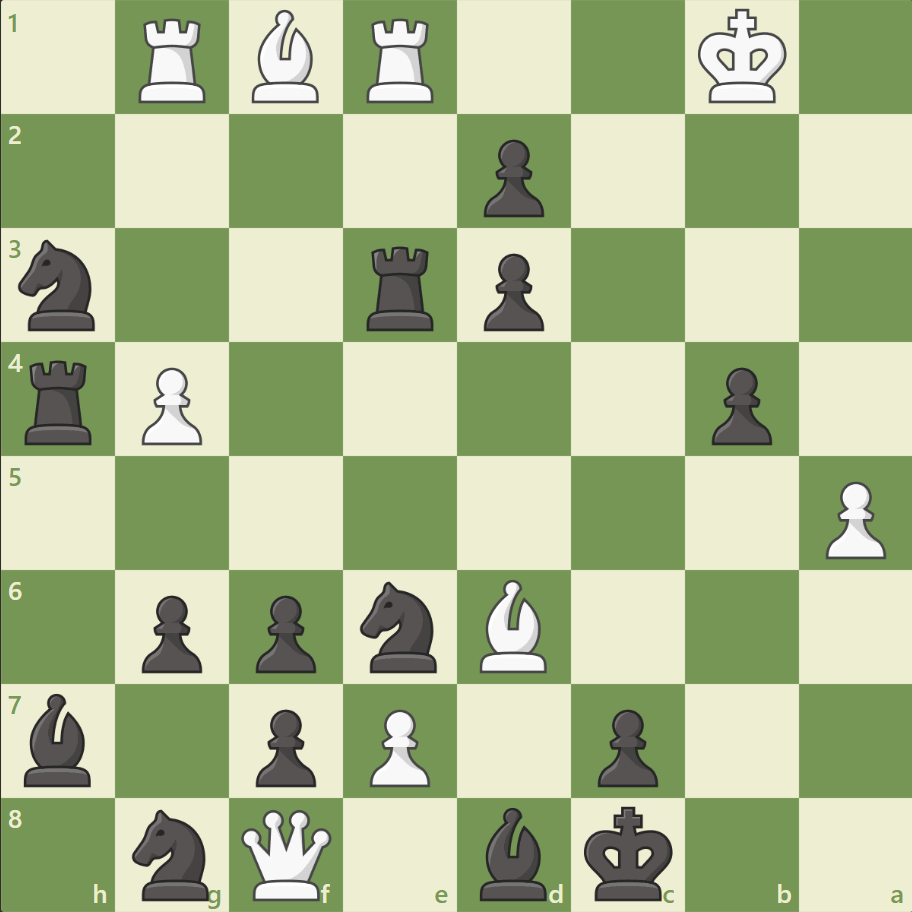B: (244, 6, 328, 109), (471, 574, 555, 676)
K: (692, 4, 792, 112)
P: (133, 359, 208, 450), (361, 700, 435, 791), (815, 473, 889, 564)
Q: (237, 804, 336, 903)
R: (360, 12, 442, 109), (133, 12, 215, 109)
b: (471, 801, 555, 904), (17, 687, 101, 790)
k: (579, 798, 679, 906)
n: (124, 802, 222, 904), (351, 575, 449, 677), (11, 234, 108, 337)
p: (247, 700, 322, 791), (247, 586, 322, 677), (133, 586, 208, 677), (701, 359, 776, 450), (474, 246, 549, 337), (474, 132, 549, 223), (588, 700, 662, 791)
r: (19, 352, 102, 449), (360, 239, 442, 336)
